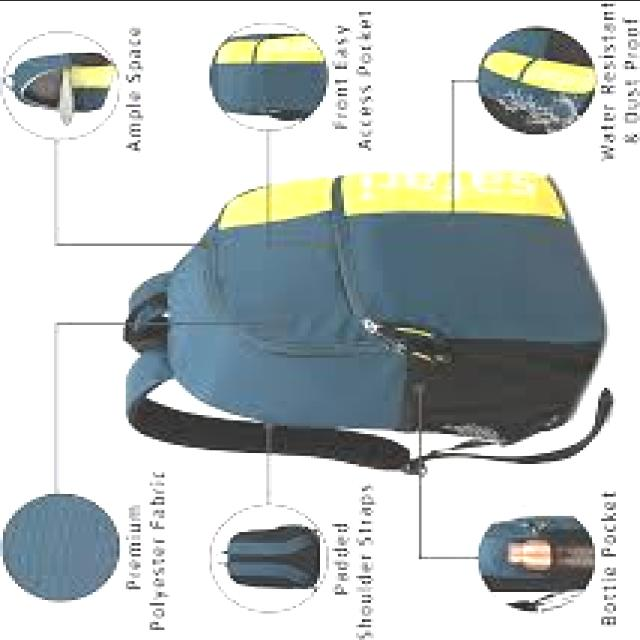backpack: (121, 170, 611, 478)
